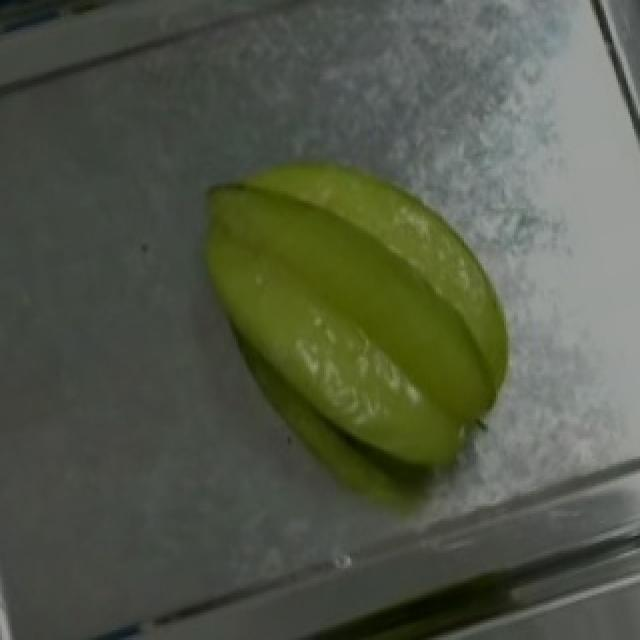fruit: (156, 112, 564, 496)
